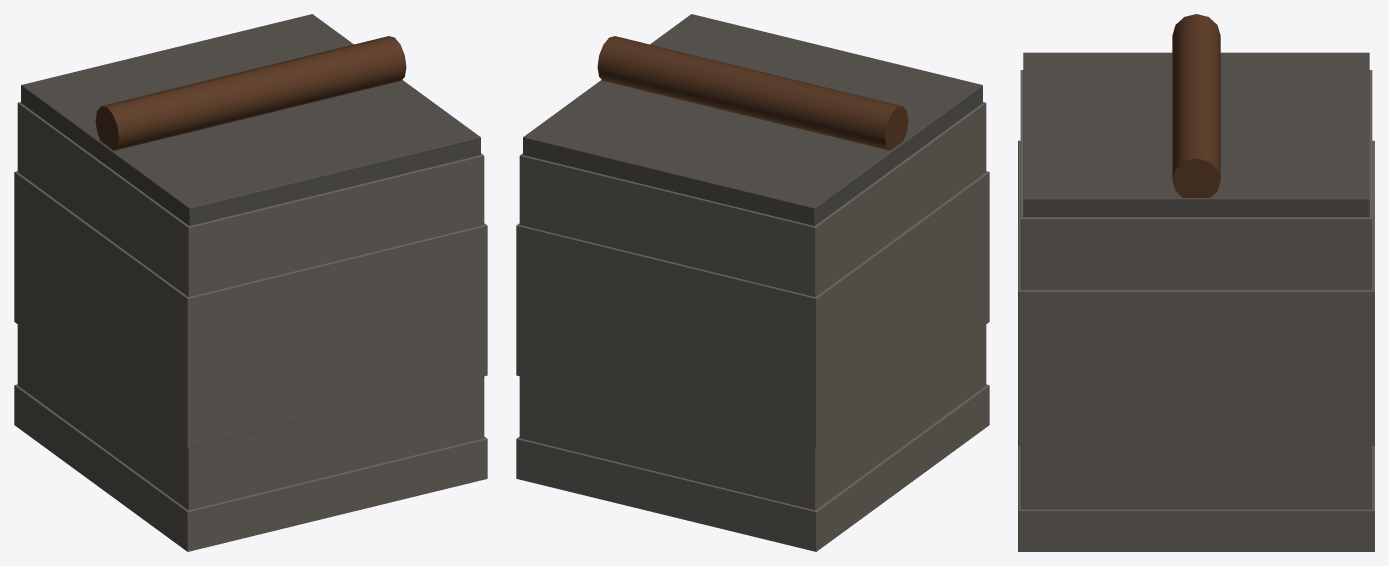
File: cabin-balustrade-pier.glb
3 renders of one model, left to right at view 1: azimuth 30°, elevation 25°; view 2: azimuth 150°, elevation 25°; view 3: azimuth 270°, elevation 25°, orthographic. The views are drawn at different scales.
Visible parts, largest first — view 1: cap, course.3, course.2, course.4, course.1, base, log.cap; view 2: cap, course.3, course.2, course.4, course.1, base, log.cap; view 3: cap, course.3, course.2, course.4, course.1, base, log.cap.
Boxes of the visible parts, bbox=[...] form: cap: bbox=[21, 14, 480, 225]; course.3: bbox=[14, 171, 487, 373]; course.2: bbox=[14, 248, 487, 448]; course.4: bbox=[17, 102, 484, 296]; course.1: bbox=[17, 324, 484, 510]; base: bbox=[14, 384, 487, 551]; log.cap: bbox=[95, 36, 406, 150]; cap: bbox=[523, 14, 982, 225]; course.3: bbox=[516, 171, 989, 373]; course.2: bbox=[516, 247, 989, 448]; course.4: bbox=[519, 102, 986, 296]; course.1: bbox=[519, 324, 986, 510]; base: bbox=[516, 384, 989, 551]; log.cap: bbox=[597, 36, 908, 150]; cap: bbox=[1023, 52, 1369, 217]; course.3: bbox=[1018, 140, 1374, 369]; course.2: bbox=[1018, 368, 1374, 445]; course.4: bbox=[1020, 70, 1372, 289]; course.1: bbox=[1020, 445, 1372, 509]; base: bbox=[1018, 445, 1374, 551]; log.cap: bbox=[1172, 14, 1220, 197].
Bounding box in the file's own units: 1.4 × 1.69 × 1.4.
